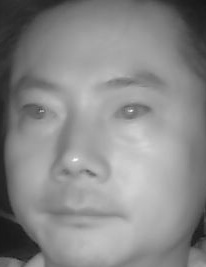eye: (20, 98, 60, 126), (112, 100, 154, 125)
mouth: (43, 193, 122, 236)
